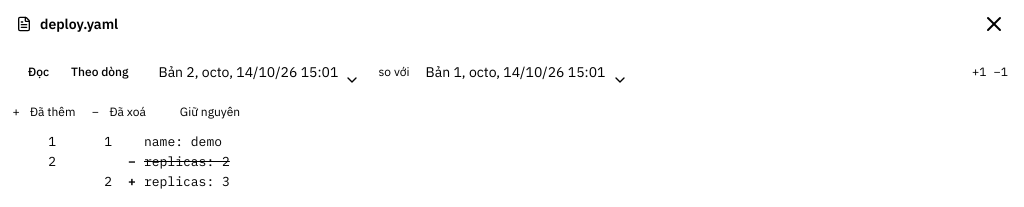
Test: ChatDocPanel › reads a YAML document in mono and shows its changes by line, with no Marked view
expect the 2nd text "2" is shown: met, box [222,153,230,170]
expect the text "3" is shown: met, box [222,173,230,190]
Click the button with test id "doc-mode-read" at (39, 72), box [18,60,59,84]
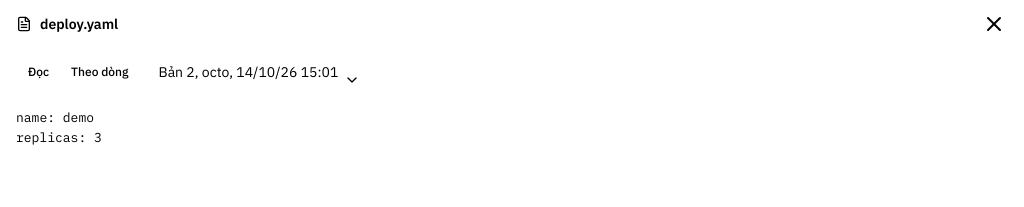
expect the text with test id "doc-text" shows "replicas: 3": met, box [16,109,102,146]
